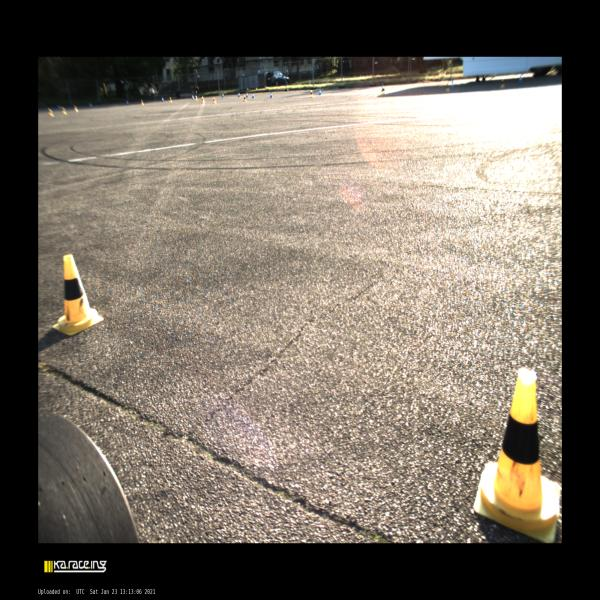blue_cone: (518, 76, 523, 84), (450, 80, 454, 89), (318, 88, 322, 95), (269, 91, 273, 98), (251, 92, 255, 99), (381, 84, 384, 91), (89, 104, 93, 108), (246, 92, 248, 98), (126, 101, 129, 105), (238, 92, 240, 97), (222, 94, 224, 98), (192, 95, 194, 99), (162, 98, 164, 102)
yellow_cone: (472, 366, 562, 543), (51, 253, 104, 336), (499, 80, 505, 89), (309, 89, 314, 98), (381, 86, 386, 95), (48, 109, 54, 116), (61, 107, 67, 114), (74, 106, 79, 112), (243, 95, 247, 102), (201, 96, 205, 103), (446, 84, 449, 92), (169, 96, 173, 102), (213, 97, 216, 104), (141, 100, 144, 105), (195, 96, 197, 101)
